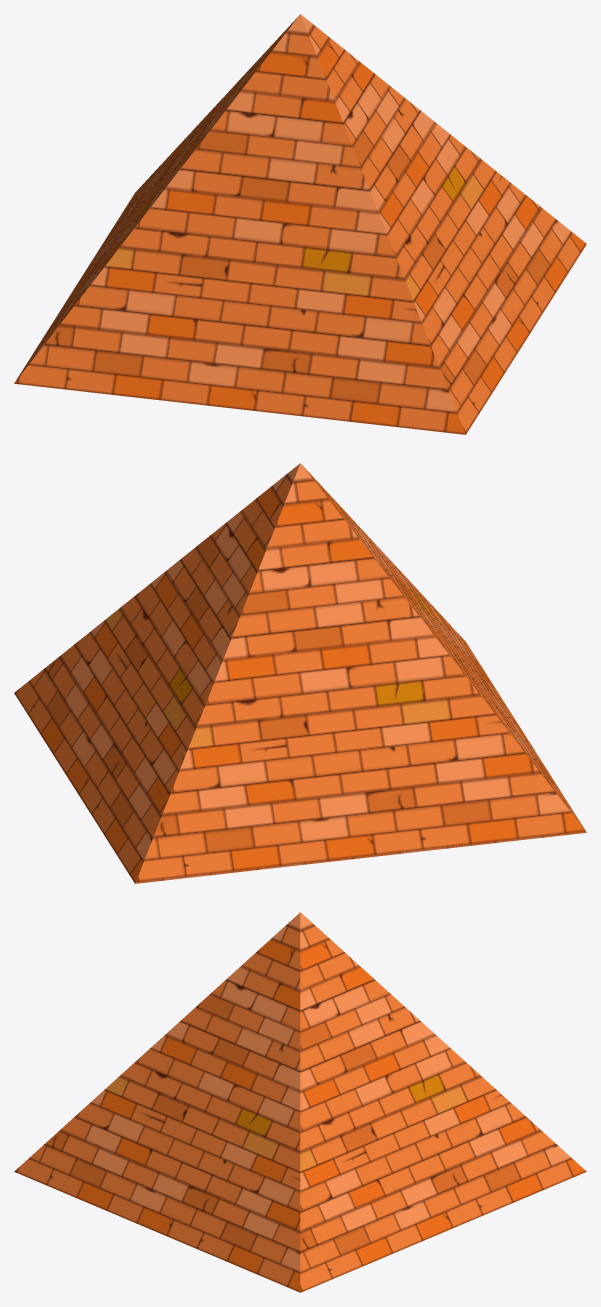
Rendered from SM_Bld_Piramid.fbx.
3 views of the same model, one above another, from view 1: azimuth 30°, elevation 25°; view 2: azimuth 150°, elevation 25°; view 3: azimuth 270°, elevation 25° (orthographic). The views are drawn at different scales.
Visible parts, largest first — view 1: SM_Bld_Piramid; view 2: SM_Bld_Piramid; view 3: SM_Bld_Piramid.
Part boxes in pixels (x1,y1,x2,y2): SM_Bld_Piramid: [14, 14, 586, 434]; SM_Bld_Piramid: [14, 463, 586, 883]; SM_Bld_Piramid: [14, 912, 586, 1292].
Size of the model in its own units: 85.49 by 42.75 by 85.49.
